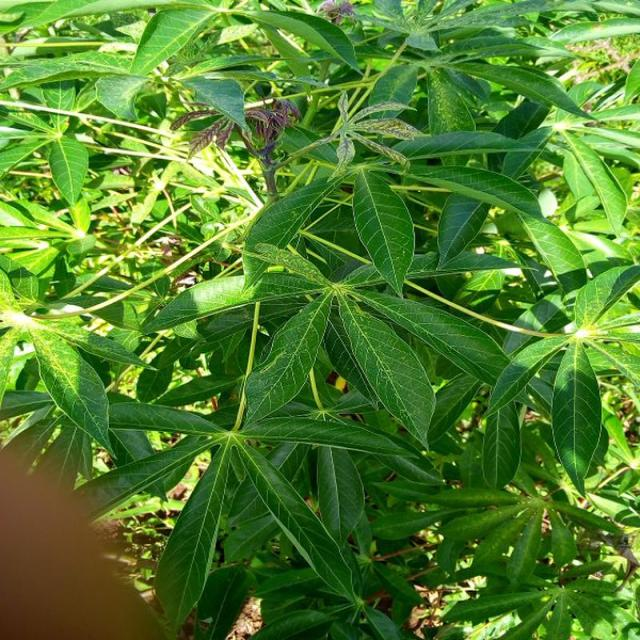cassava leaf: (0, 1, 638, 637), (351, 165, 415, 298)
